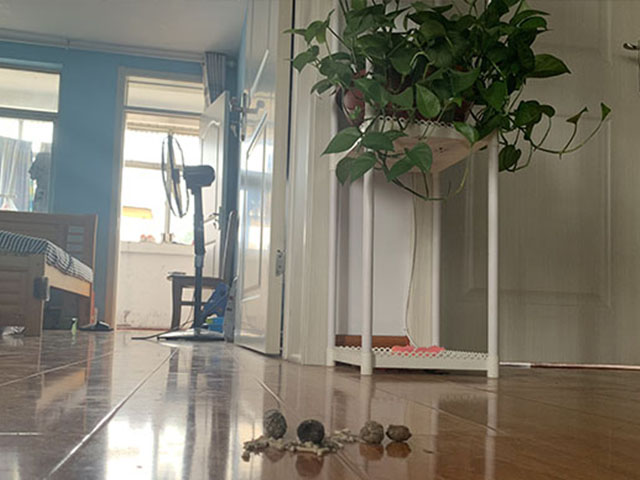bed: (1, 209, 100, 338)
feces: (260, 407, 328, 444), (358, 413, 413, 448)
slippers: (77, 316, 113, 327)
stool: (167, 213, 233, 329)
wire: (134, 316, 194, 339)
